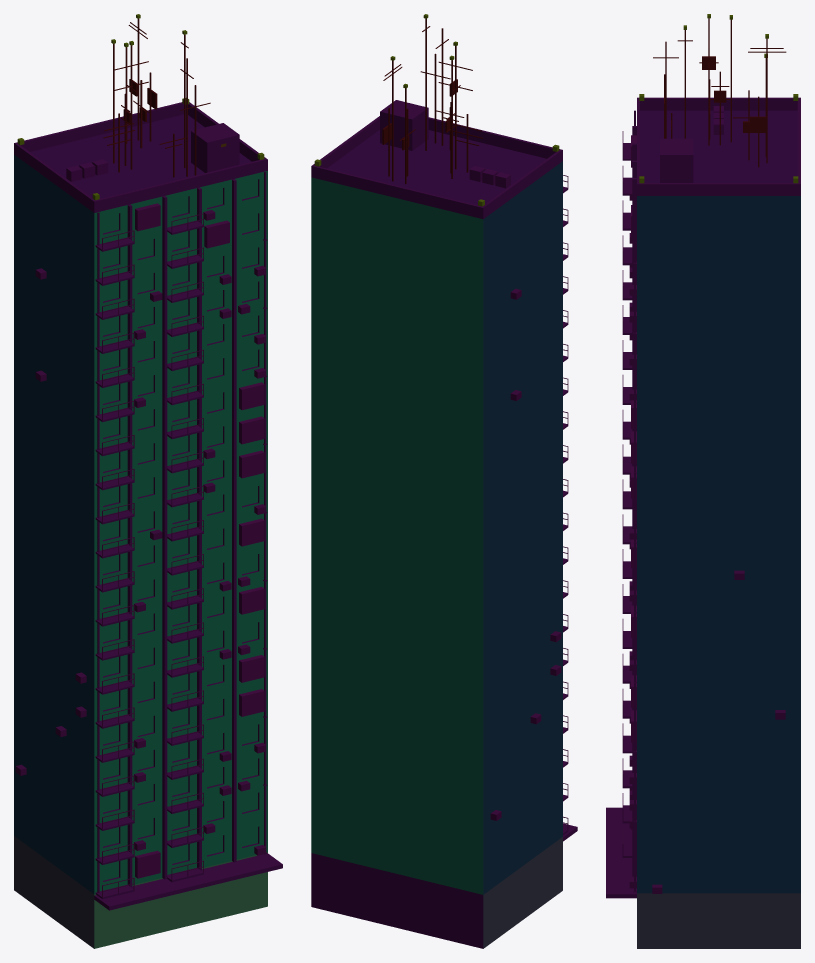
The model's file is slab_b.glb.
The picture shows the model from 3 angles, left to right: view 1: azimuth 30°, elevation 25°; view 2: azimuth 150°, elevation 25°; view 3: azimuth 270°, elevation 25°; orthographic projection. The views are drawn at different scales.
Visible parts, largest first — view 1: slab_b; view 2: slab_b; view 3: slab_b.
Part boxes in pixels (x1=…): slab_b: x1=14, y1=14, x2=282, y2=948; slab_b: x1=311, y1=14, x2=577, y2=948; slab_b: x1=606, y1=14, x2=800, y2=948.
Size of the model in its own units: 17.1 by 76.85 by 15.2.
